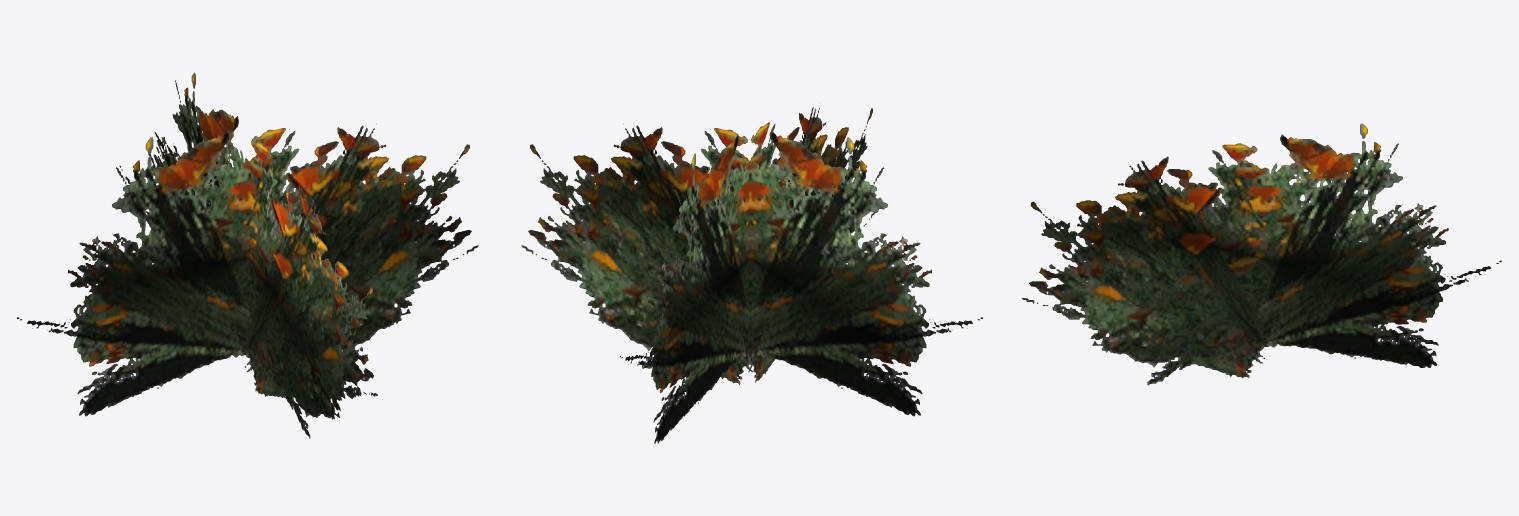
File: flow_poppies_sm_l1.fbx
3 views of the same model, side by side, from view 1: azimuth 30°, elevation 25°; view 2: azimuth 150°, elevation 25°; view 3: azimuth 270°, elevation 25° (orthographic). The views are drawn at different scales.
Parts seen in each view (by area): view 1: mesh_node; view 2: mesh_node; view 3: mesh_node.
Boxes of the visible parts, x1=… form: mesh_node: x1=17, y1=72, x2=478, y2=438; mesh_node: x1=521, y1=107, x2=982, y2=443; mesh_node: x1=1021, y1=123, x2=1501, y2=385.
Bounding box in the file's own units: 1.35 × 0.8095 × 1.31.
